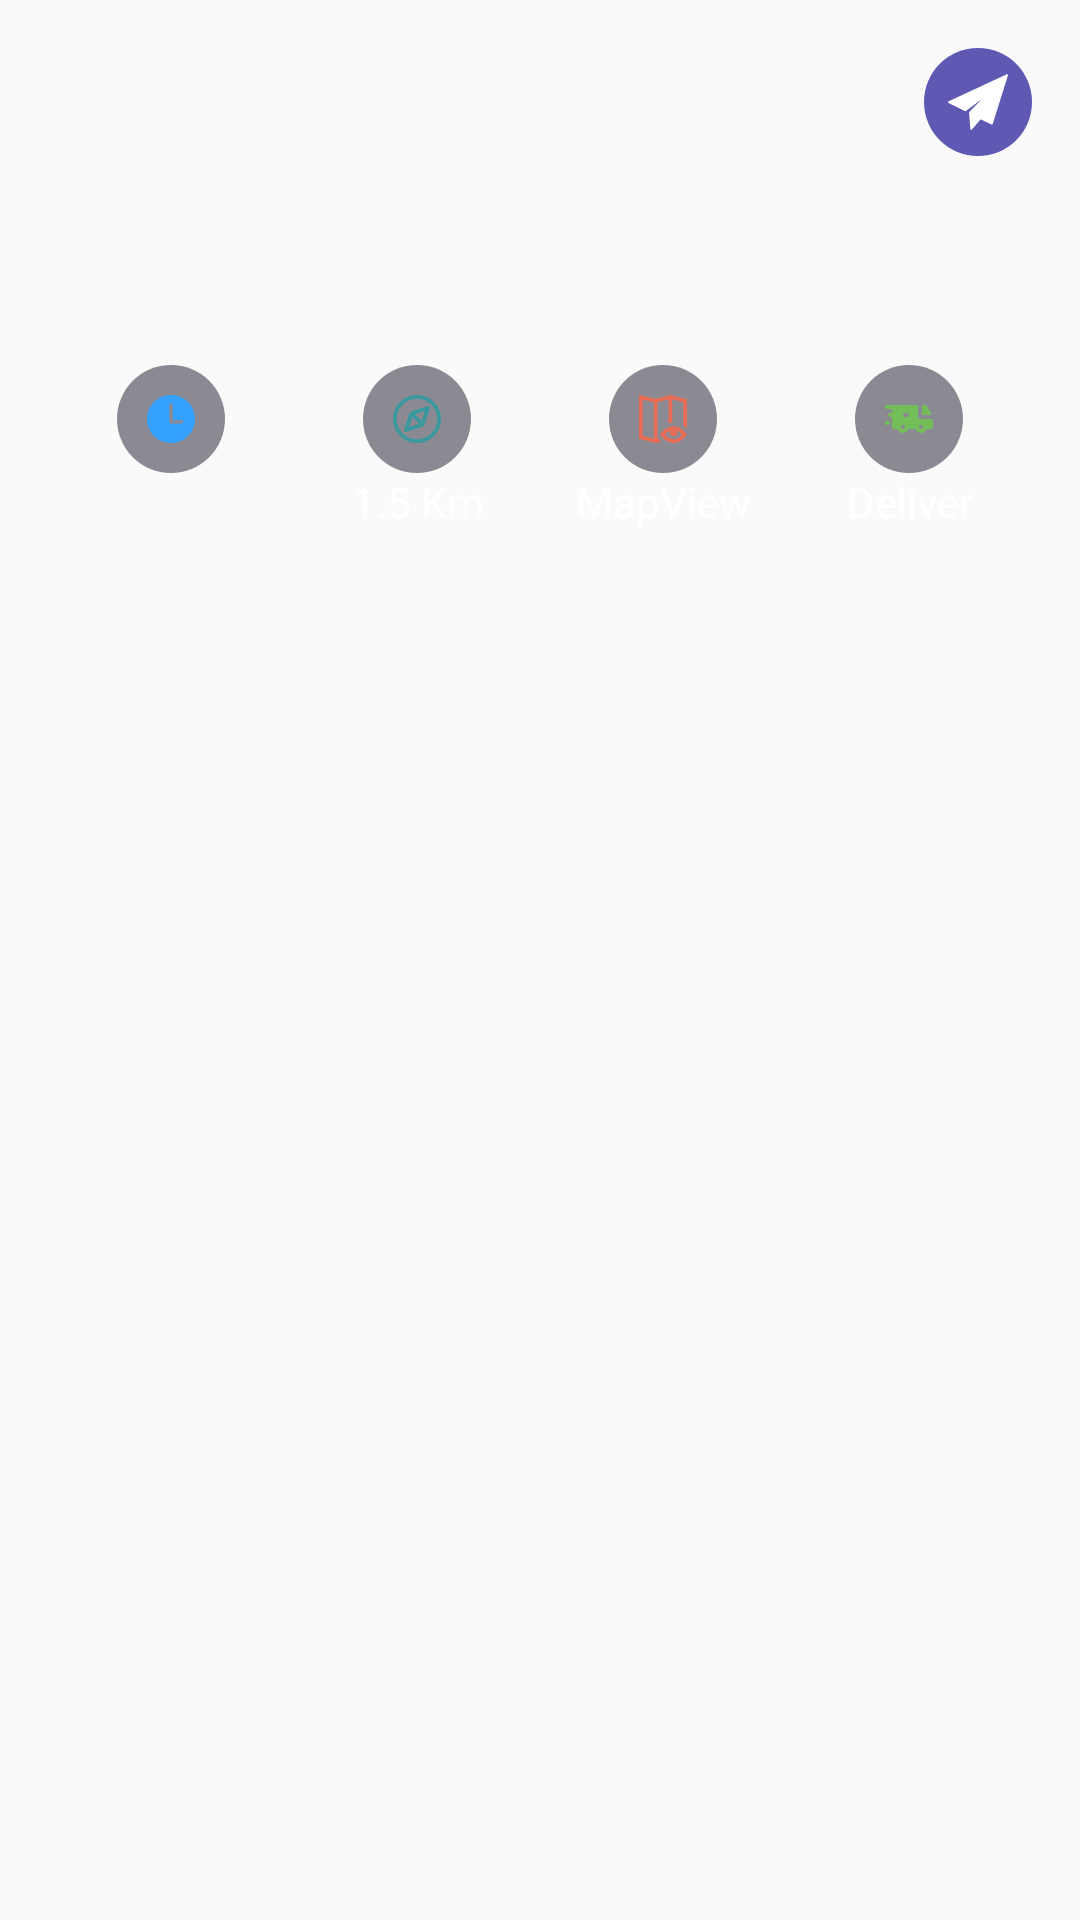

Screen size 1080x1920. Icon name, then its box in pixels as [x1, y1, x2, y2]:
distance: [363, 365, 471, 473]
opening time: [117, 365, 225, 473]
sent: [924, 48, 1032, 156]
